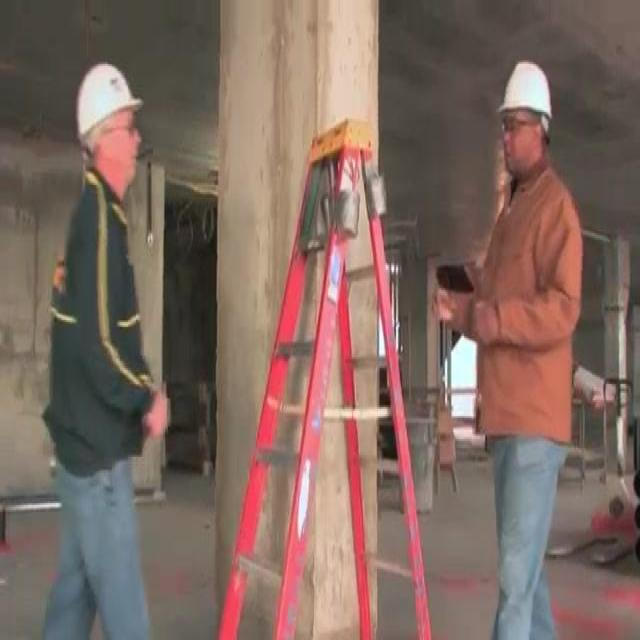Safety-Helmet: (67, 51, 149, 148), (491, 50, 561, 137)
